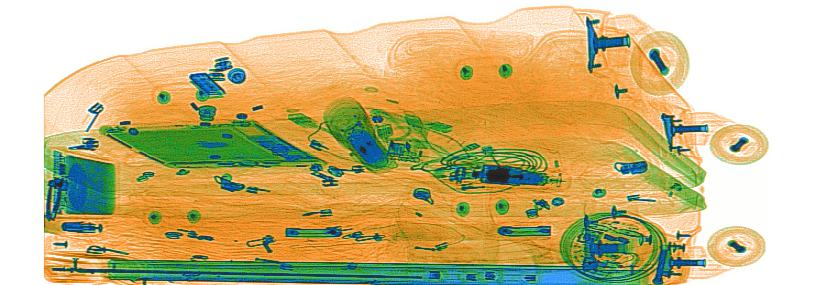battery: (347, 129, 387, 169)
